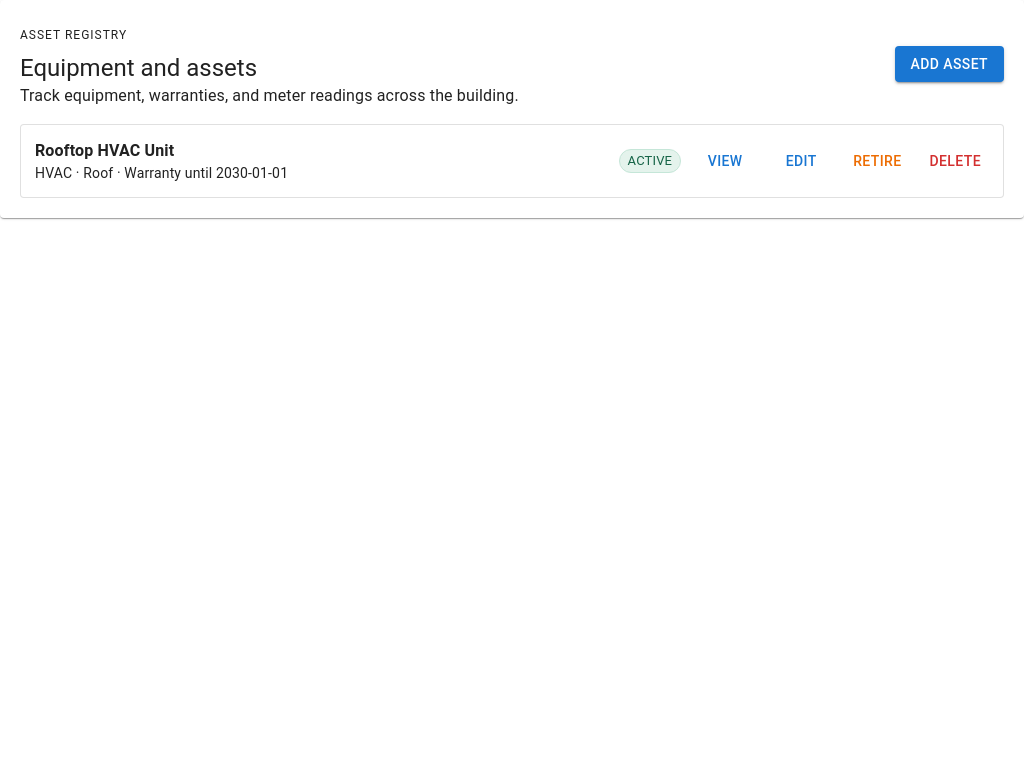
Test: blocks an empty asset and shows the required-name error inline
Click the button "Add asset". click: (949, 64)
box: [894,46,1004,82]
(page scrolled)
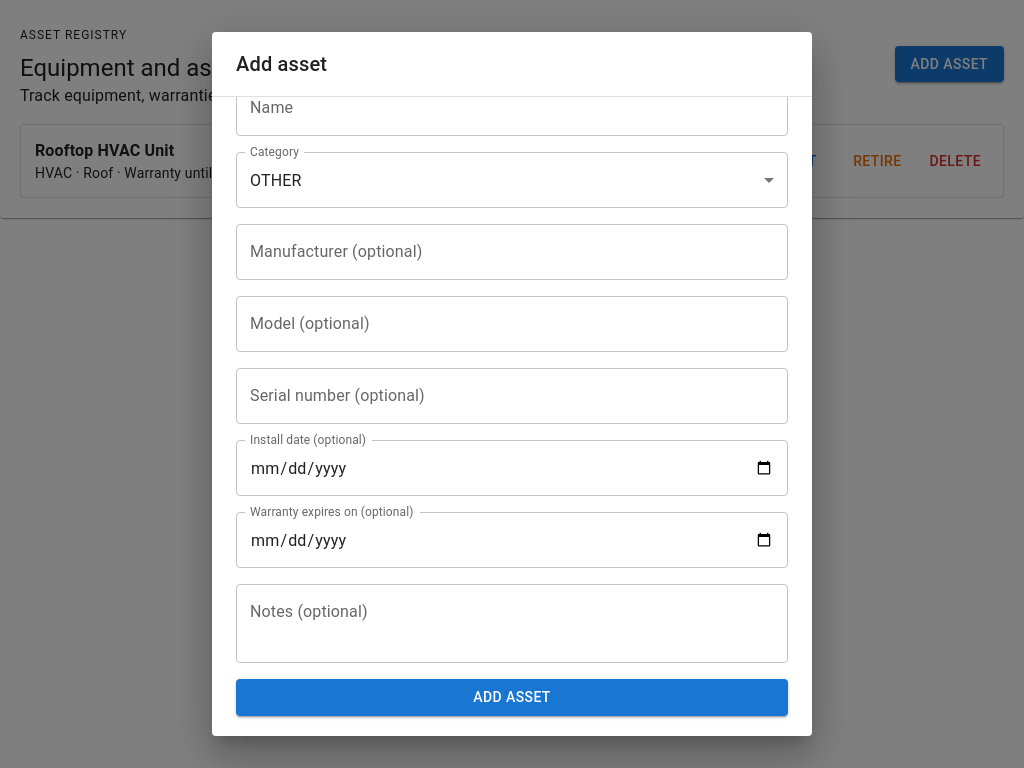
Click the button "Add asset". click: (512, 697)
box: [236,679,788,716]
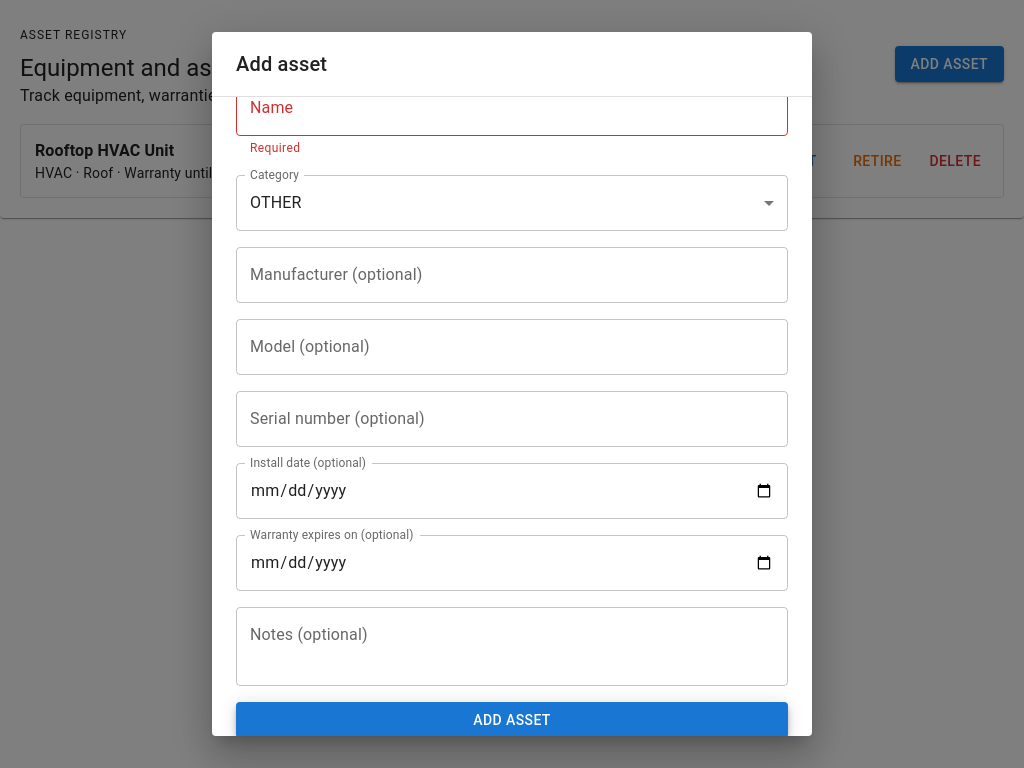
Expected: the text "Required" is shown, [250,141,300,155]
